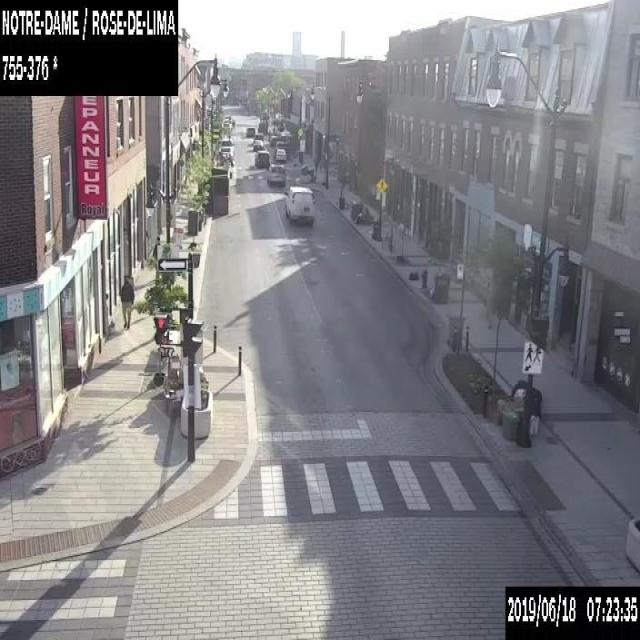pedestrian: (120, 279, 134, 329), (152, 235, 160, 260)
vehicle: (283, 184, 314, 222), (266, 163, 284, 184), (253, 150, 269, 168), (220, 137, 234, 156), (218, 146, 232, 160), (274, 148, 286, 160), (252, 138, 262, 149), (254, 132, 263, 141), (275, 140, 284, 148), (270, 135, 276, 146), (246, 127, 254, 135), (223, 121, 231, 129)
